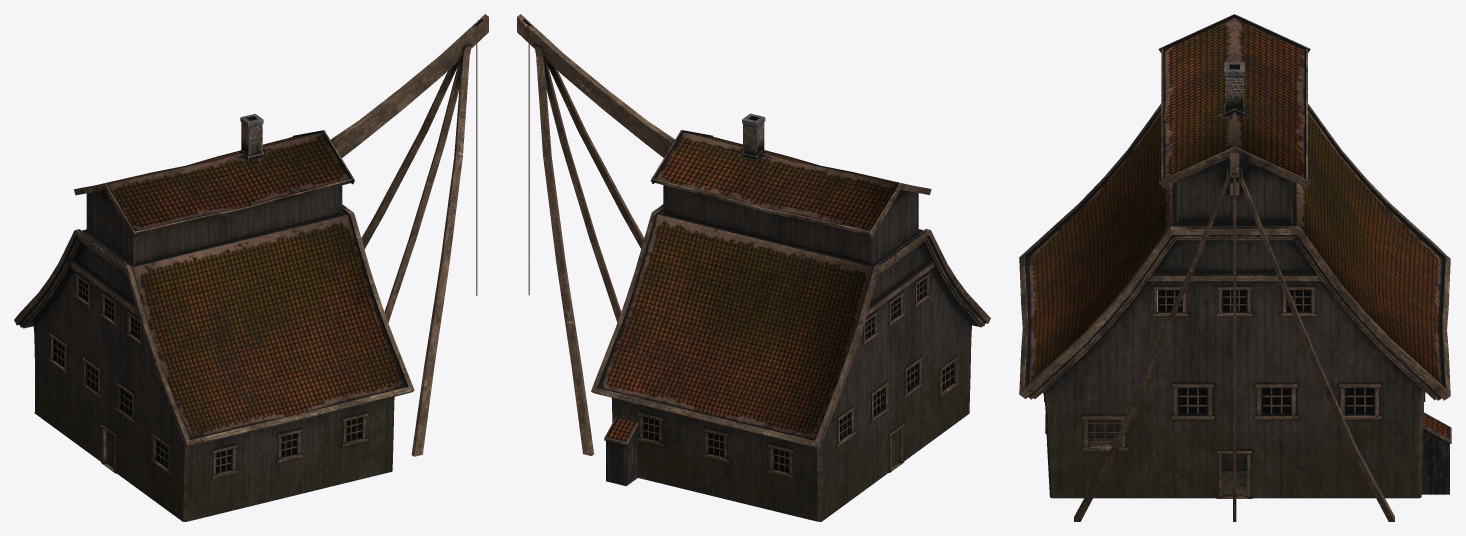
The model's file is grua.glb.
3 views of the same model, side by side, from view 1: azimuth 30°, elevation 25°; view 2: azimuth 150°, elevation 25°; view 3: azimuth 270°, elevation 25° (orthographic). The views are drawn at different scales.
Parts seen in each view (by area): view 1: Brinchs_Kran_Brinchs_Kran_Tak_0, Brinchs_Kran_Brinchs_Kran_0; view 2: Brinchs_Kran_Brinchs_Kran_Tak_0, Brinchs_Kran_Brinchs_Kran_0; view 3: Brinchs_Kran_Brinchs_Kran_0, Brinchs_Kran_Brinchs_Kran_Tak_0.
Part boxes in pixels (left/top/right/bottom): Brinchs_Kran_Brinchs_Kran_Tak_0: left=14, top=113, right=414, bottom=447; Brinchs_Kran_Brinchs_Kran_0: left=33, top=14, right=488, bottom=521; Brinchs_Kran_Brinchs_Kran_Tak_0: left=591, top=113, right=990, bottom=486; Brinchs_Kran_Brinchs_Kran_0: left=517, top=14, right=972, bottom=521; Brinchs_Kran_Brinchs_Kran_0: left=1043, top=152, right=1425, bottom=521; Brinchs_Kran_Brinchs_Kran_Tak_0: left=1019, top=14, right=1451, bottom=494.
Bounding box in the file's own units: 2843 × 2538 × 2223.
Materials: 2 (2 with a texture image).
